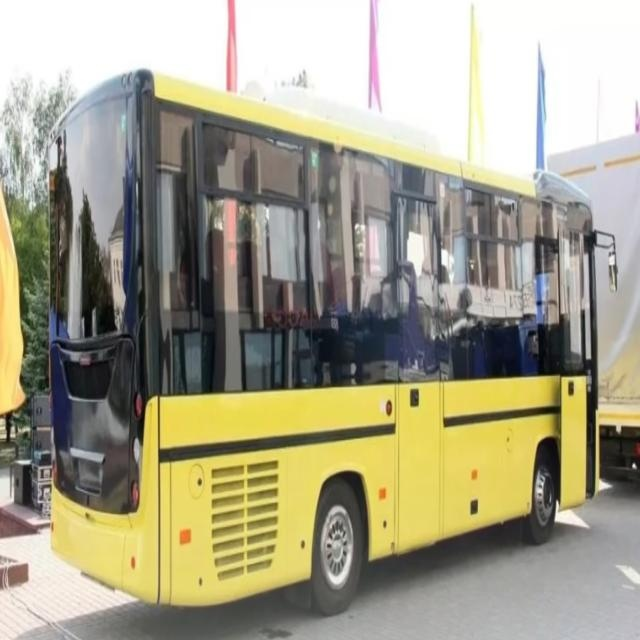Bus: (46, 61, 620, 610)
